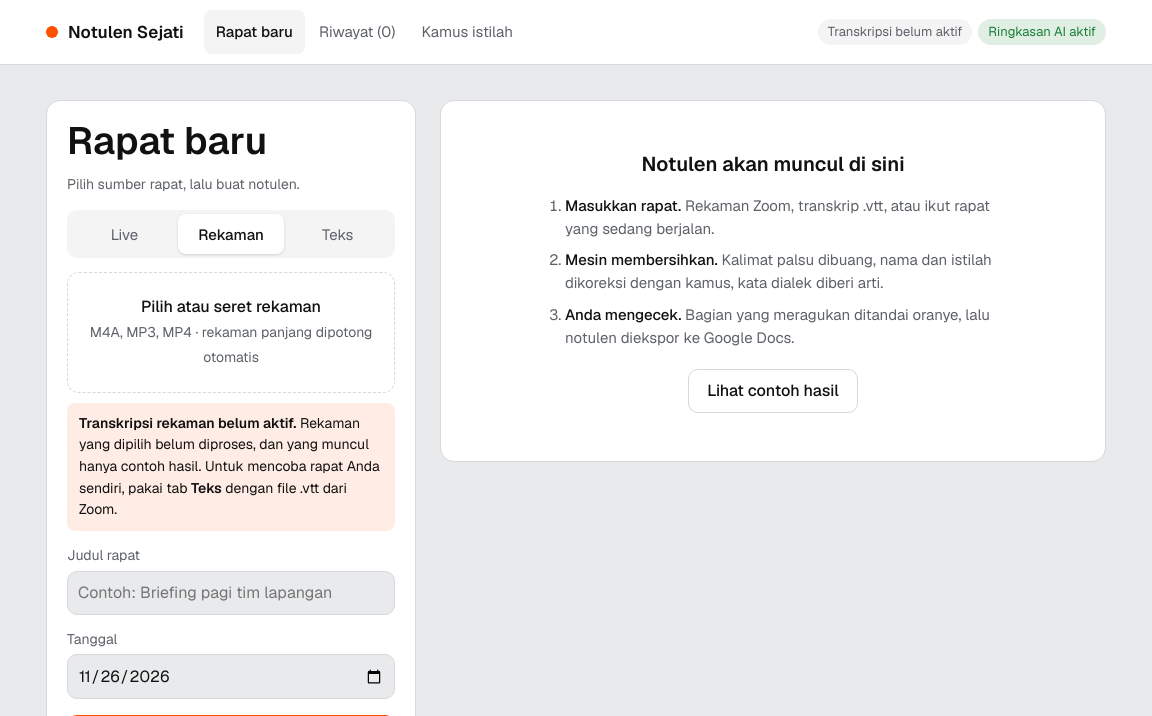
it: Notulen Sejati › ringkasan AI dipakai bila server aktif
The width and height of the screenshot is (1152, 716).
expect the text "Ringkasan AI aktif" is shown: met, box top-left (978, 19), bottom-right (1106, 45)
Click the tab "Teks". click: (338, 234)
box: top-left (284, 214), bottom-right (391, 254)
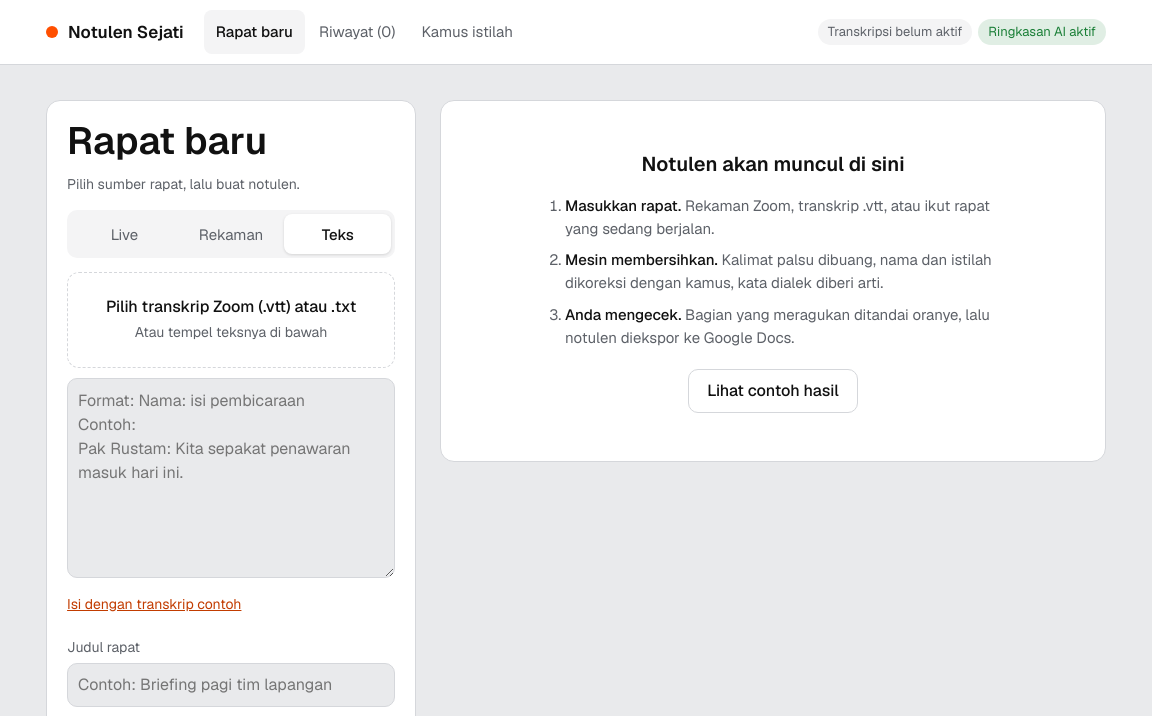
Replace the text in the text box named "Transkrip" with "Budi: Kita sepakat ke Tonasa.". click: (231, 478)
box: top-left (67, 378), bottom-right (395, 578)
(page scrolled)
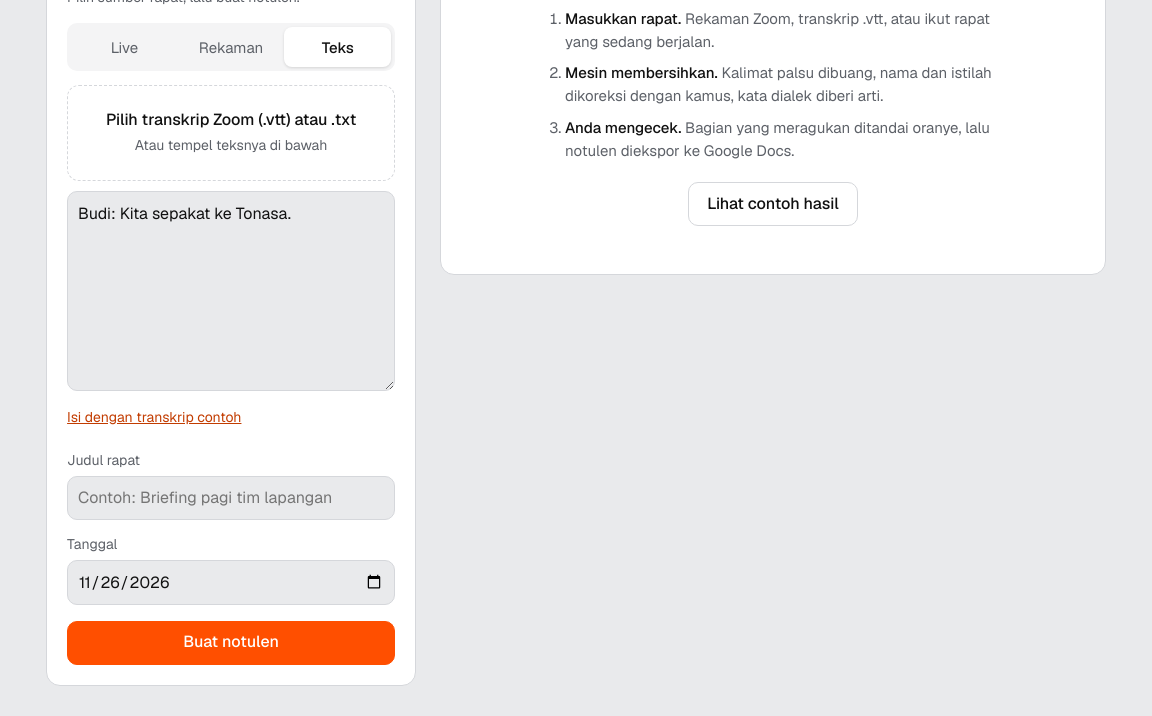
Click the button "Buat notulen". click: (231, 643)
box: top-left (67, 621), bottom-right (395, 665)
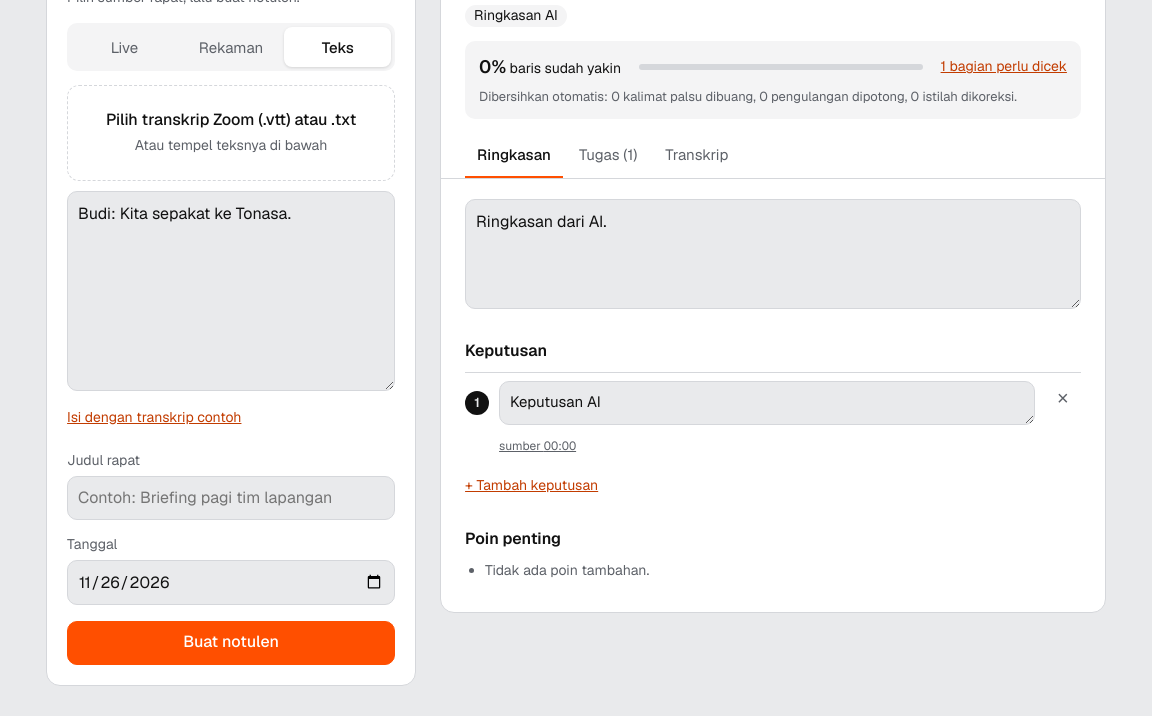
expect the text box showing "Ringkasan dari AI." is shown: met, box top-left (465, 199), bottom-right (1081, 309)
expect the text "Ringkasan AI" is shown: met, box top-left (465, 5), bottom-right (567, 27)
expect the button "1 bagian perlu dicek" is shown: met, box top-left (941, 56), bottom-right (1067, 78)
